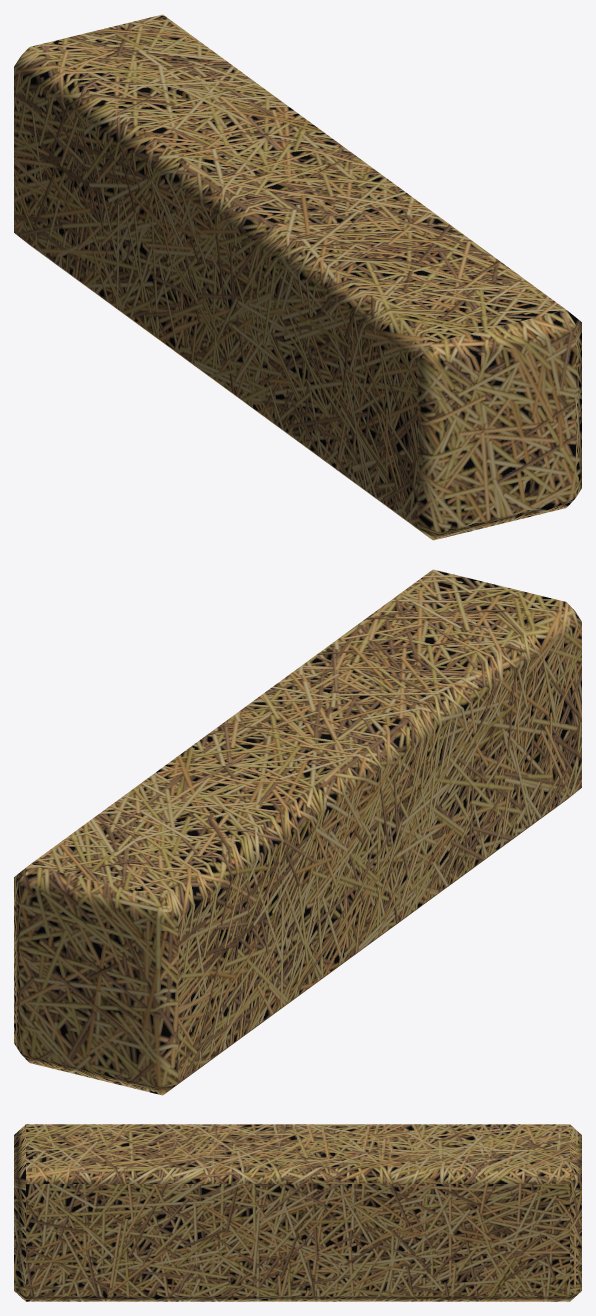
File: Hay UV good.fbx
The picture shows the model from 3 angles, top to bottom: view 1: azimuth 30°, elevation 25°; view 2: azimuth 150°, elevation 25°; view 3: azimuth 270°, elevation 25°; orthographic projection. The views are drawn at different scales.
Parts seen in each view (by area): view 1: Cube.004; view 2: Cube.004; view 3: Cube.004.
Part boxes in pixels (x1=…): Cube.004: x1=14, y1=14, x2=581, y2=540; Cube.004: x1=14, y1=569, x2=581, y2=1095; Cube.004: x1=14, y1=1124, x2=581, y2=1301.
Size of the model in its own units: 45 by 51.84 by 200.
